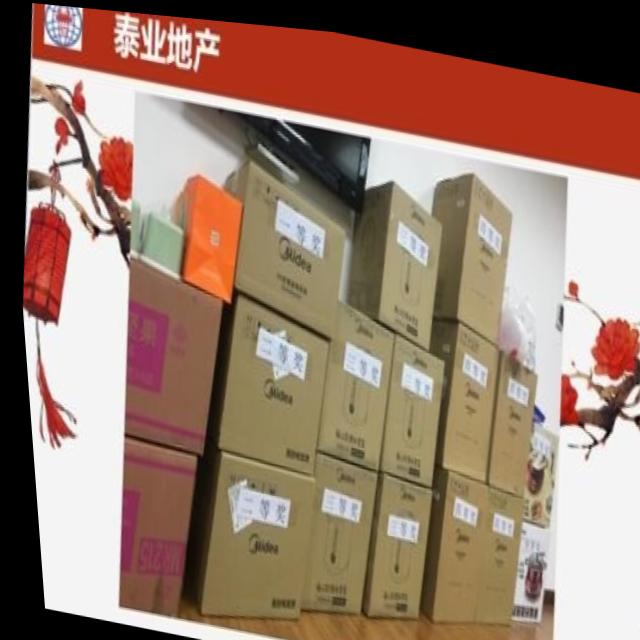box: (217, 155, 342, 337), (201, 289, 324, 470), (179, 439, 306, 614), (118, 254, 220, 453), (341, 173, 440, 342), (110, 435, 192, 614), (427, 162, 508, 336), (310, 295, 389, 463), (291, 444, 369, 605), (424, 306, 496, 473), (410, 456, 482, 614), (157, 171, 239, 302), (352, 464, 424, 610), (372, 327, 439, 478), (478, 344, 531, 488), (464, 474, 515, 613), (514, 413, 555, 519), (504, 513, 542, 618), (134, 207, 180, 274), (126, 200, 136, 255)
